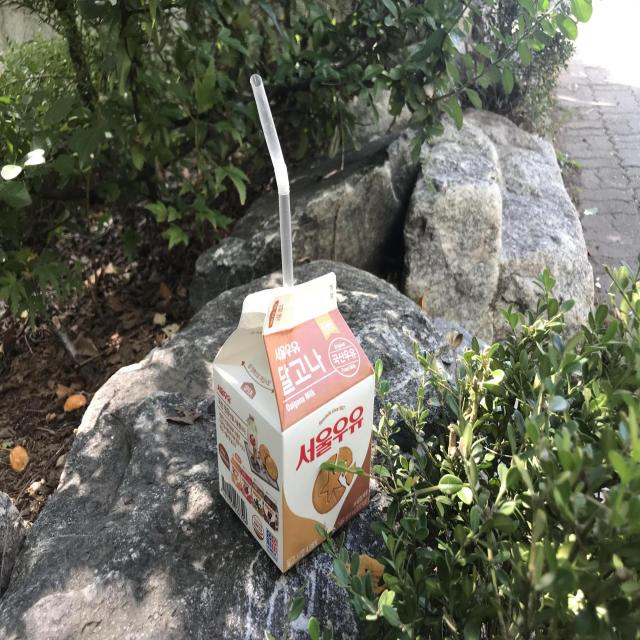paperpack: (213, 272, 375, 573)
